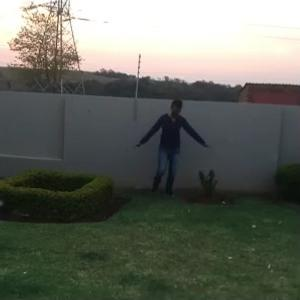land: (132, 95, 210, 204)
